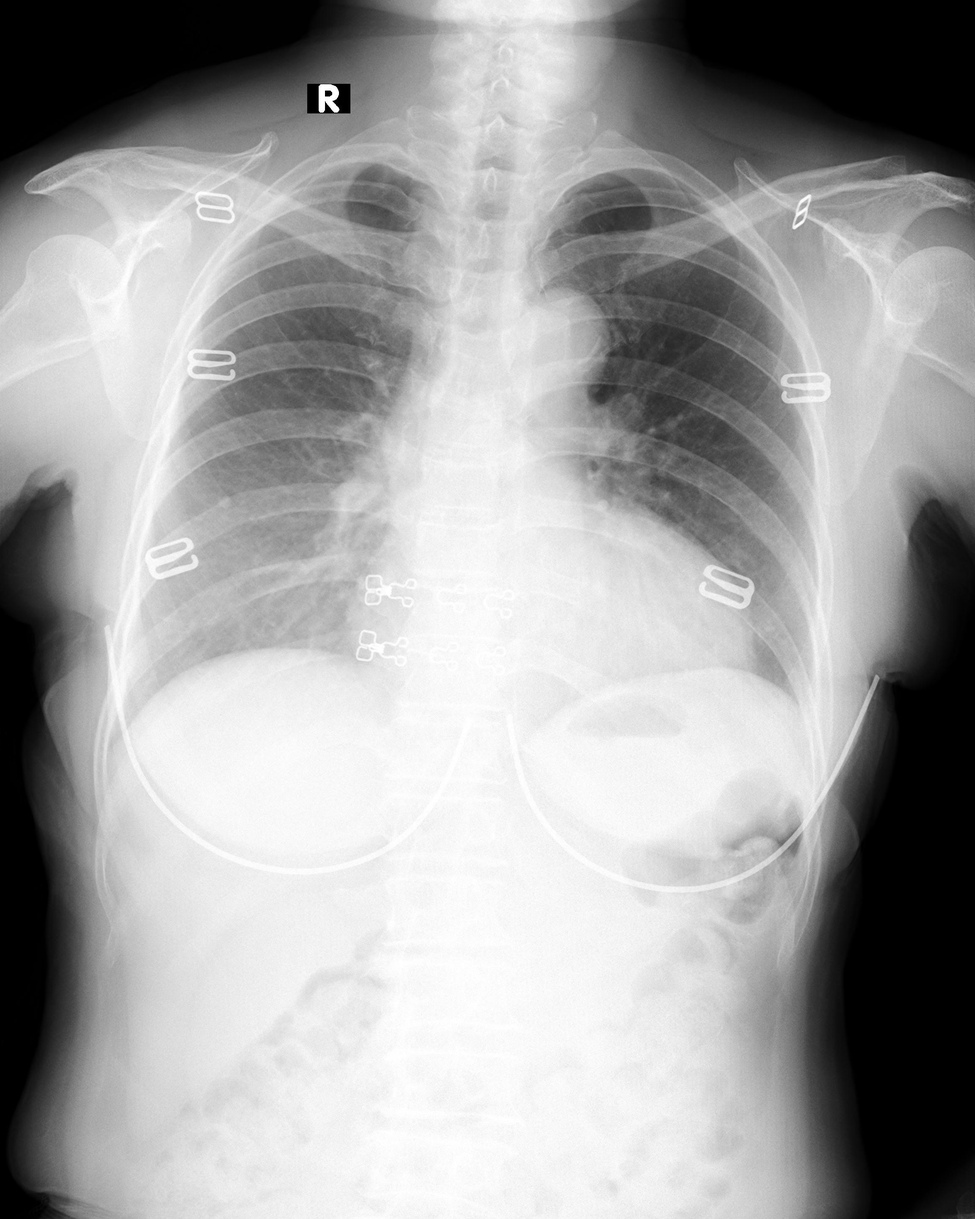Aortic enlargement: (486, 289, 605, 418)
Cardiomegaly: (338, 546, 757, 696)
